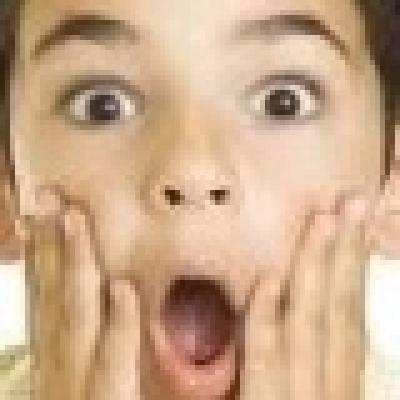surprise: (30, 5, 372, 389)
